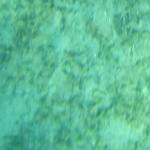dead: (3, 4, 146, 148)
